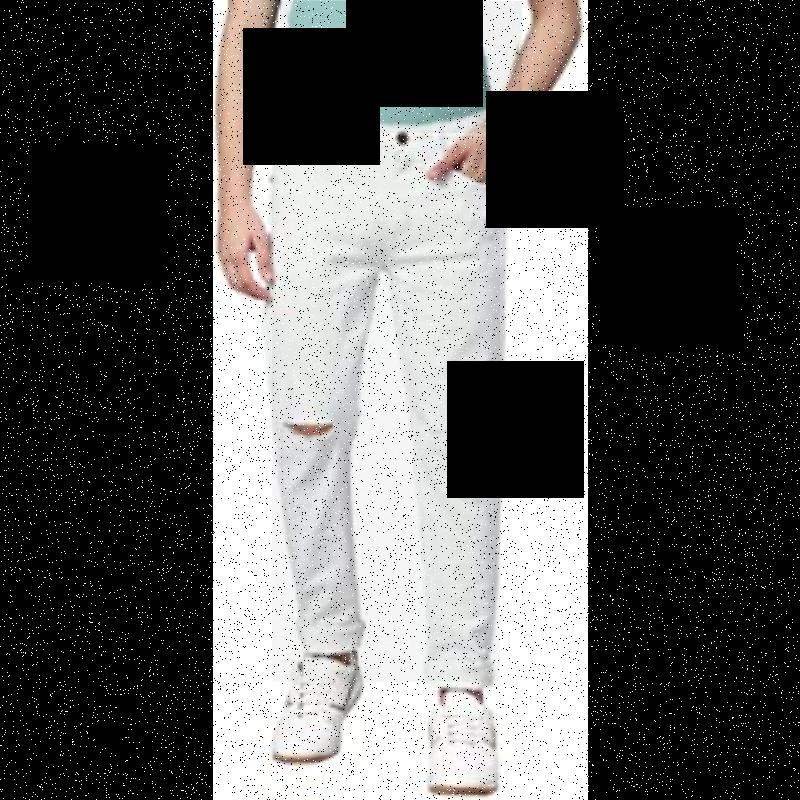Jeans: (272, 136, 500, 682)
Tshirt: (280, 1, 522, 133)
